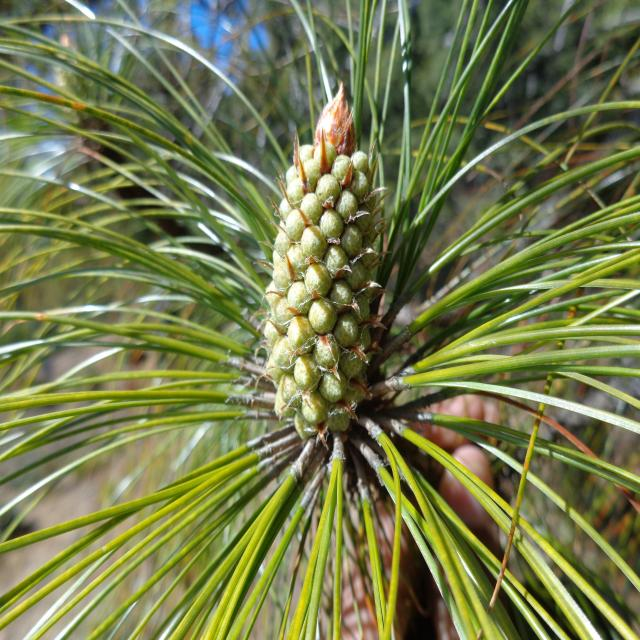Pine: (0, 28, 640, 640), (180, 0, 598, 640)
